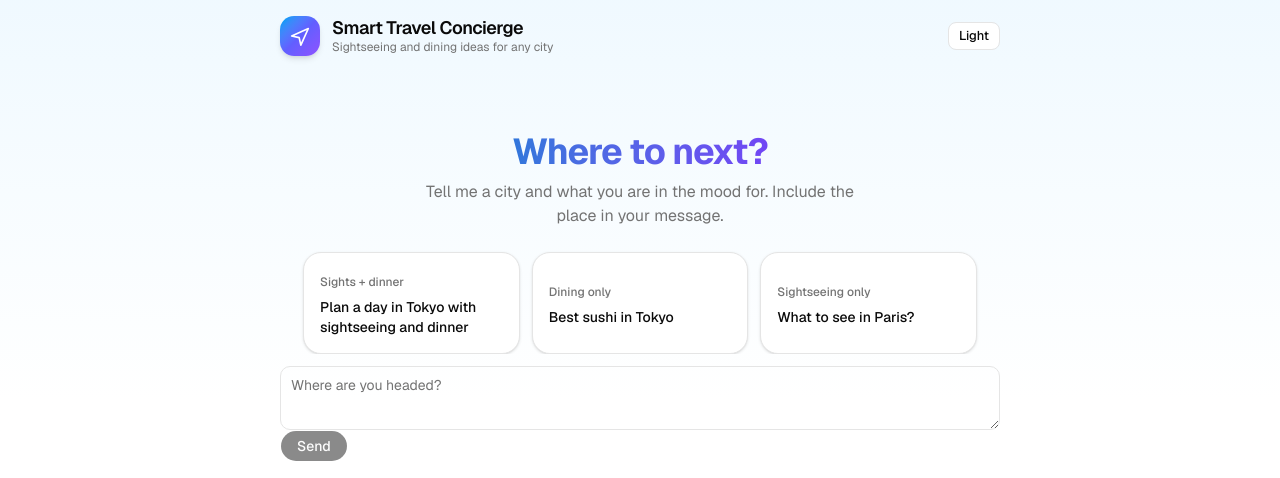
Chat › shows a friendly error when the network is down
Click the button "Dining only Best sushi in Tokyo" at coordinates (640, 303), box 532,252 -> 748,354
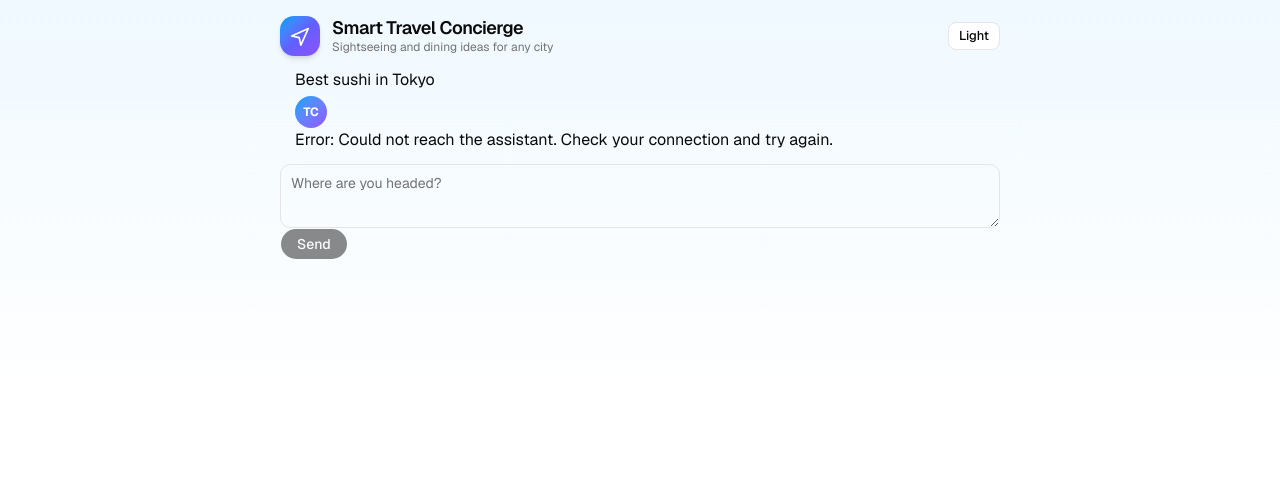
Result: the message shows "Could not reach the assistant" at 295,129 -> 833,150
